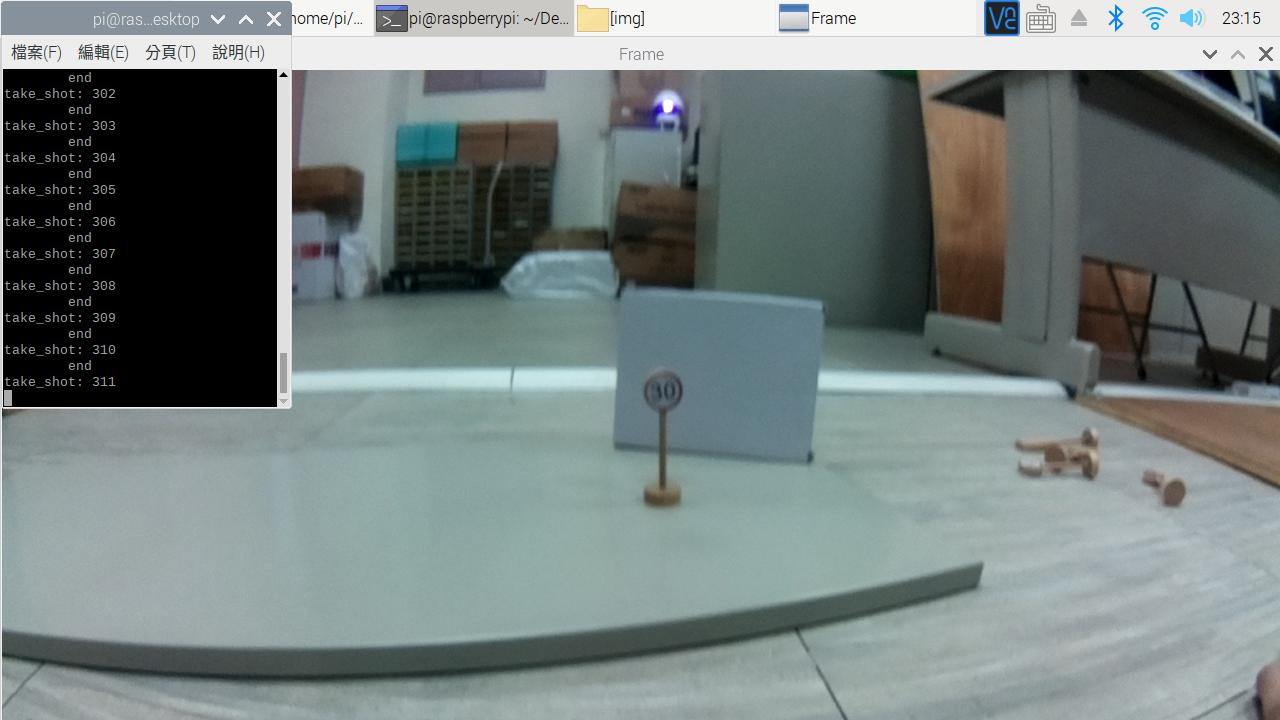Speed30: (630, 364, 698, 429)
